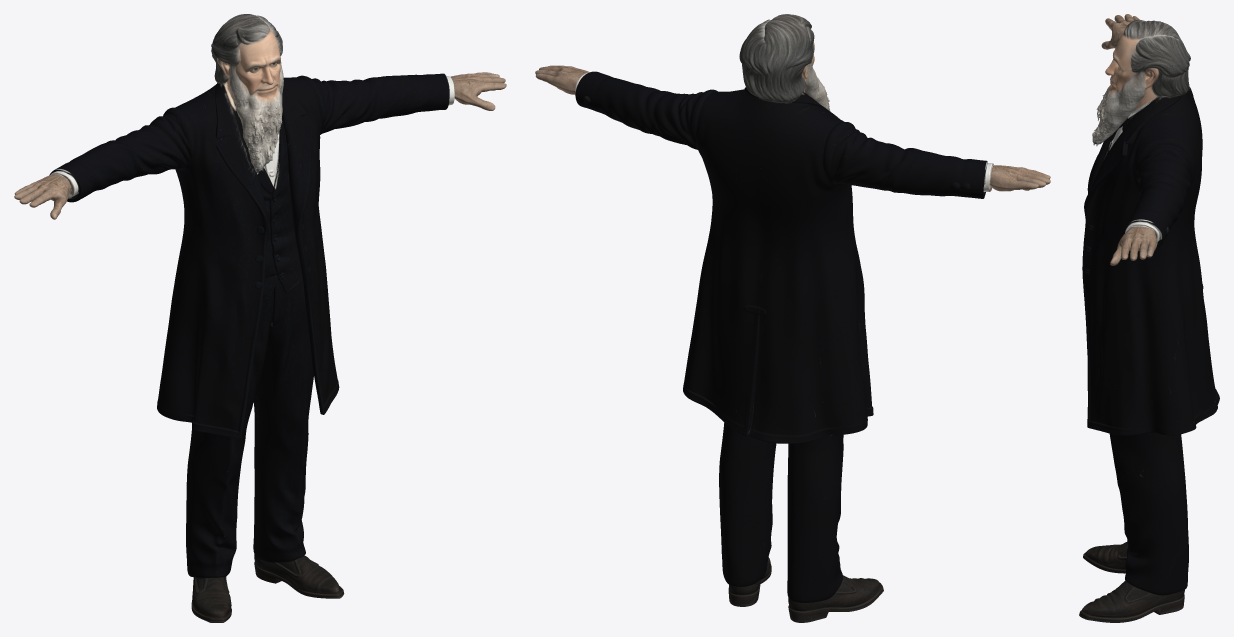
File: brigham-young-source.glb
3 renders of one model, left to right at view 1: azimuth 30°, elevation 25°; view 2: azimuth 150°, elevation 25°; view 3: azimuth 270°, elevation 25°, orthographic. The views are drawn at different scales.
Bounding box in the file's own units: 1.72 × 1.9 × 0.4264.
Materials: 1 (1 with a texture image).
